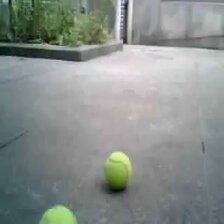tennis: (104, 151, 131, 188), (36, 205, 79, 224)
